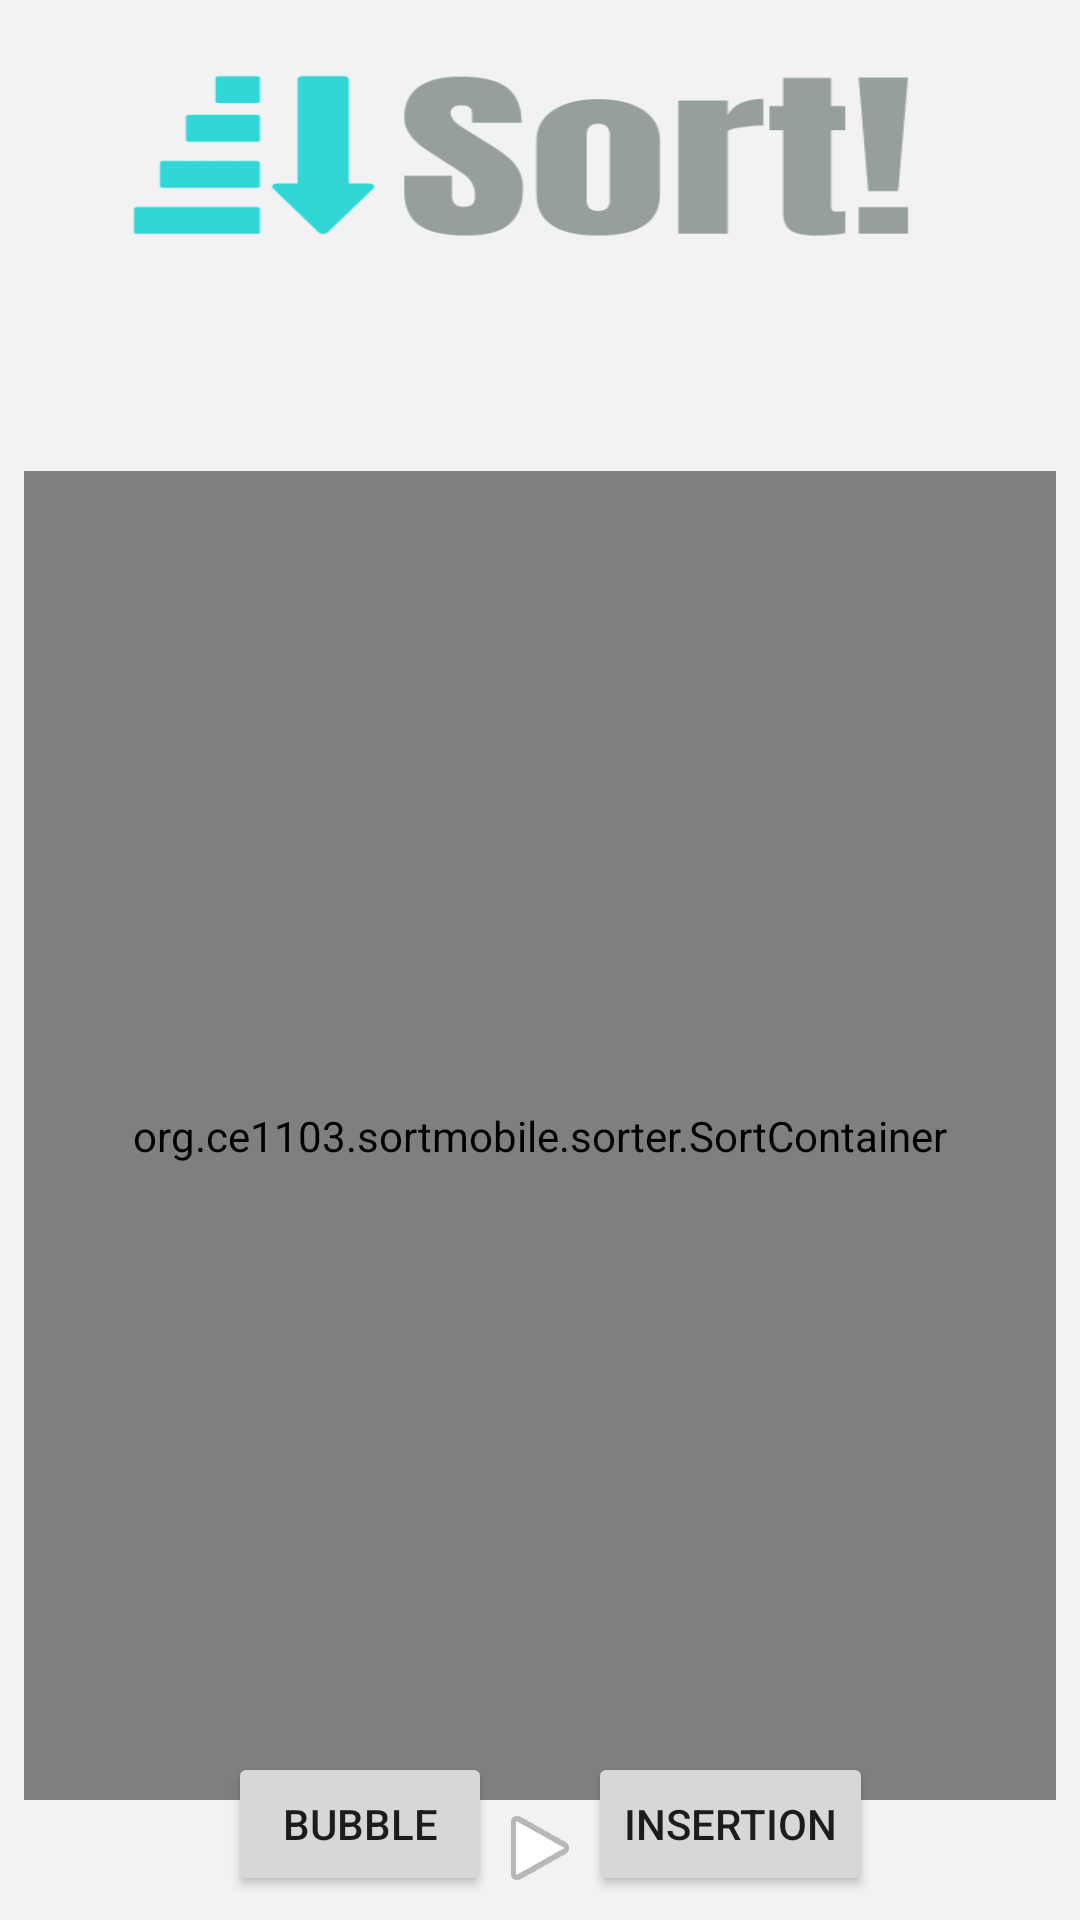

Screen size 1080w x 1920h. Icon name, then its center in pixels as (x,y):
play: (540,1848)
